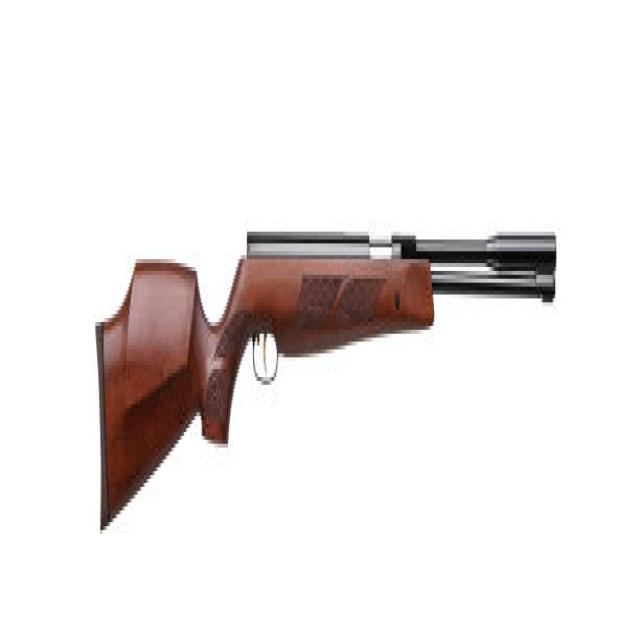rifle: (92, 208, 562, 538)
